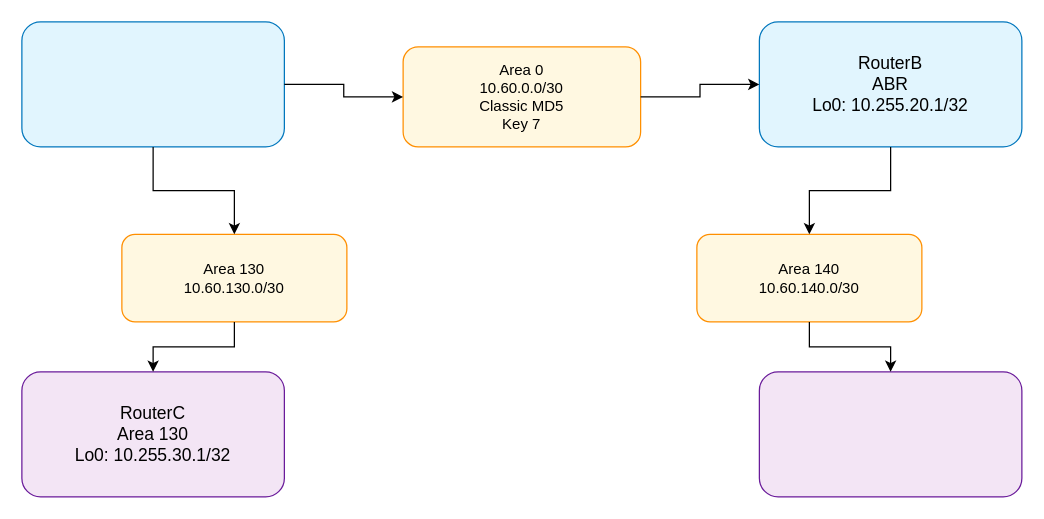
Image size: 1044x519. Some labels were removed from this diagram. Here are the shapes that lost their labels. From the top down, the centre of each, then its label:
At [152,84]: "RouterA ABR Lo0: 10.255.10.1/32".
At [890,434]: "RouterD Area 140 Lo0: 10.255.40.1/32".
